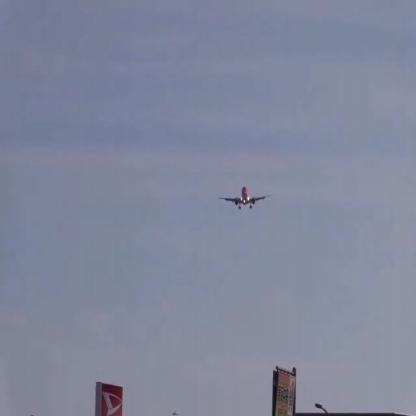CIV_Plane: (220, 186, 270, 211)
